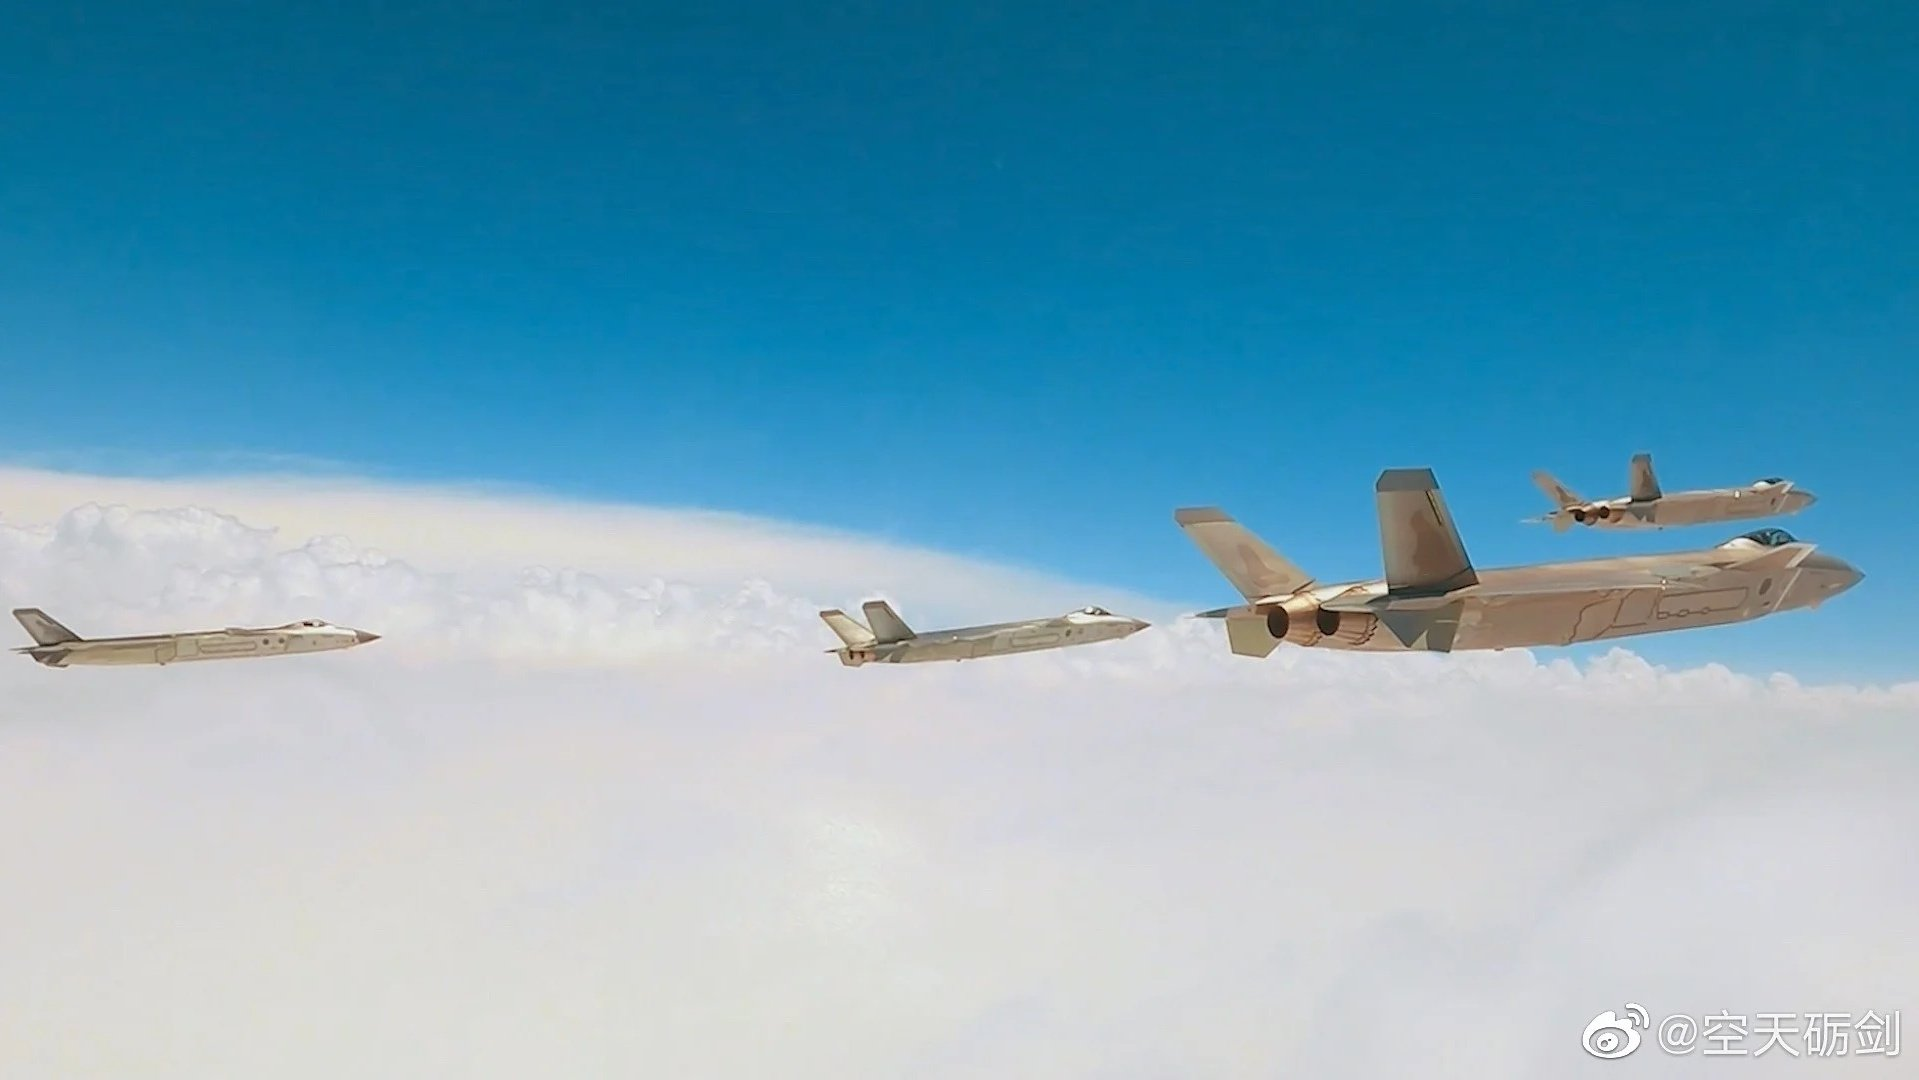J20: (1173, 465, 1868, 659), (1516, 452, 1820, 534), (818, 599, 1153, 669), (7, 607, 384, 669)
